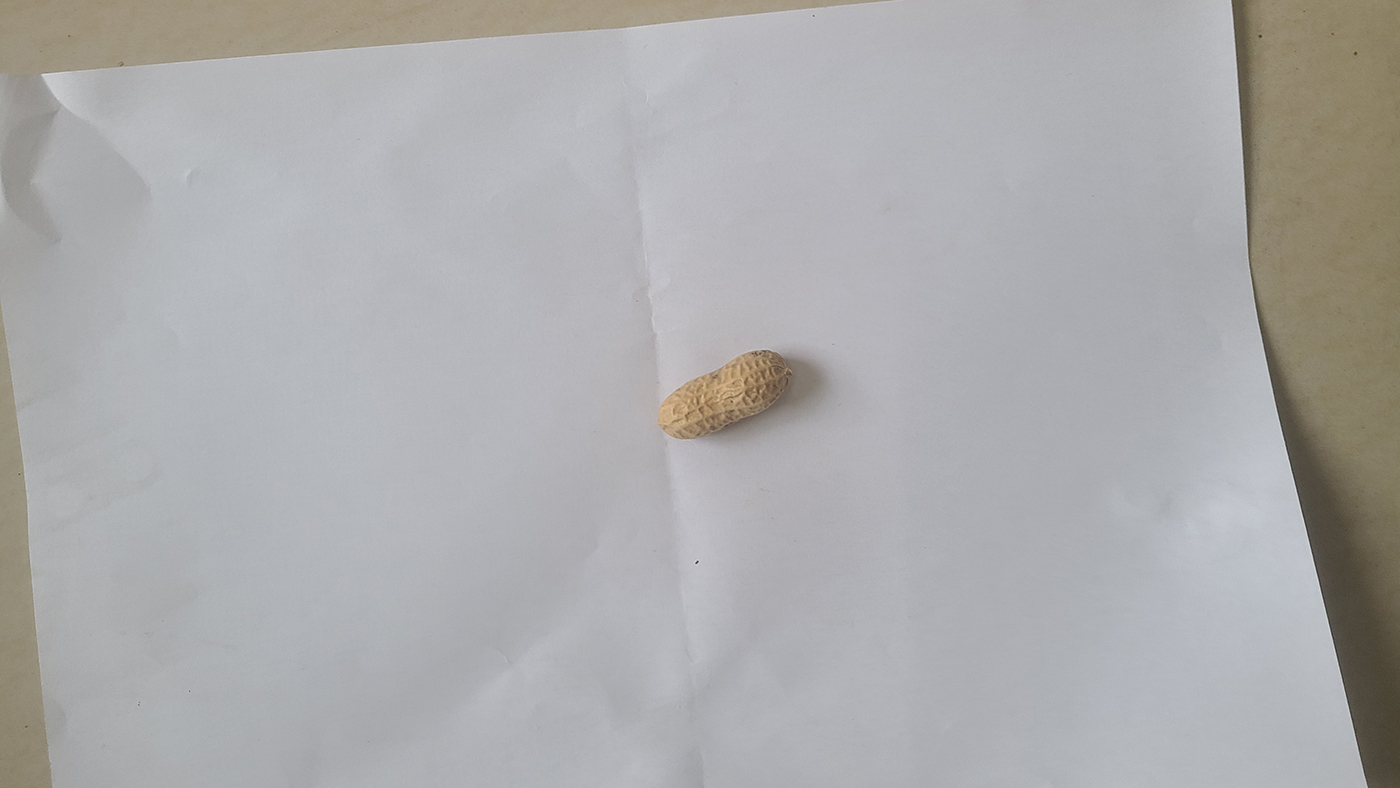h: (655, 346, 792, 440)
